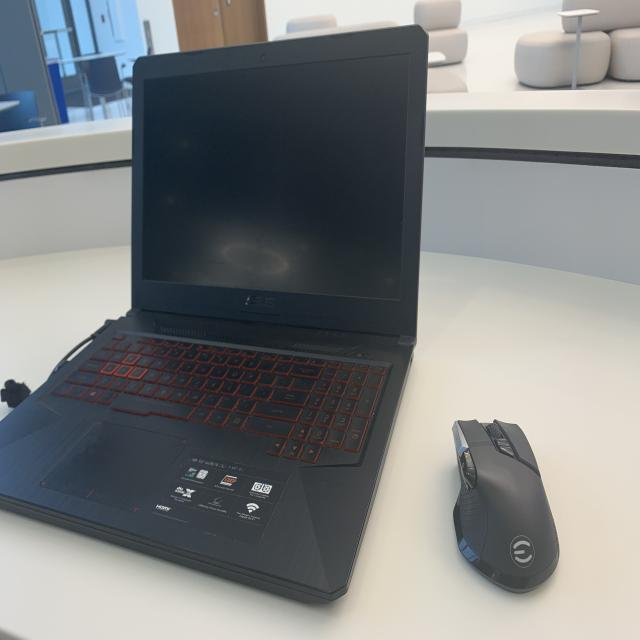Mouse: (438, 405, 571, 600)
